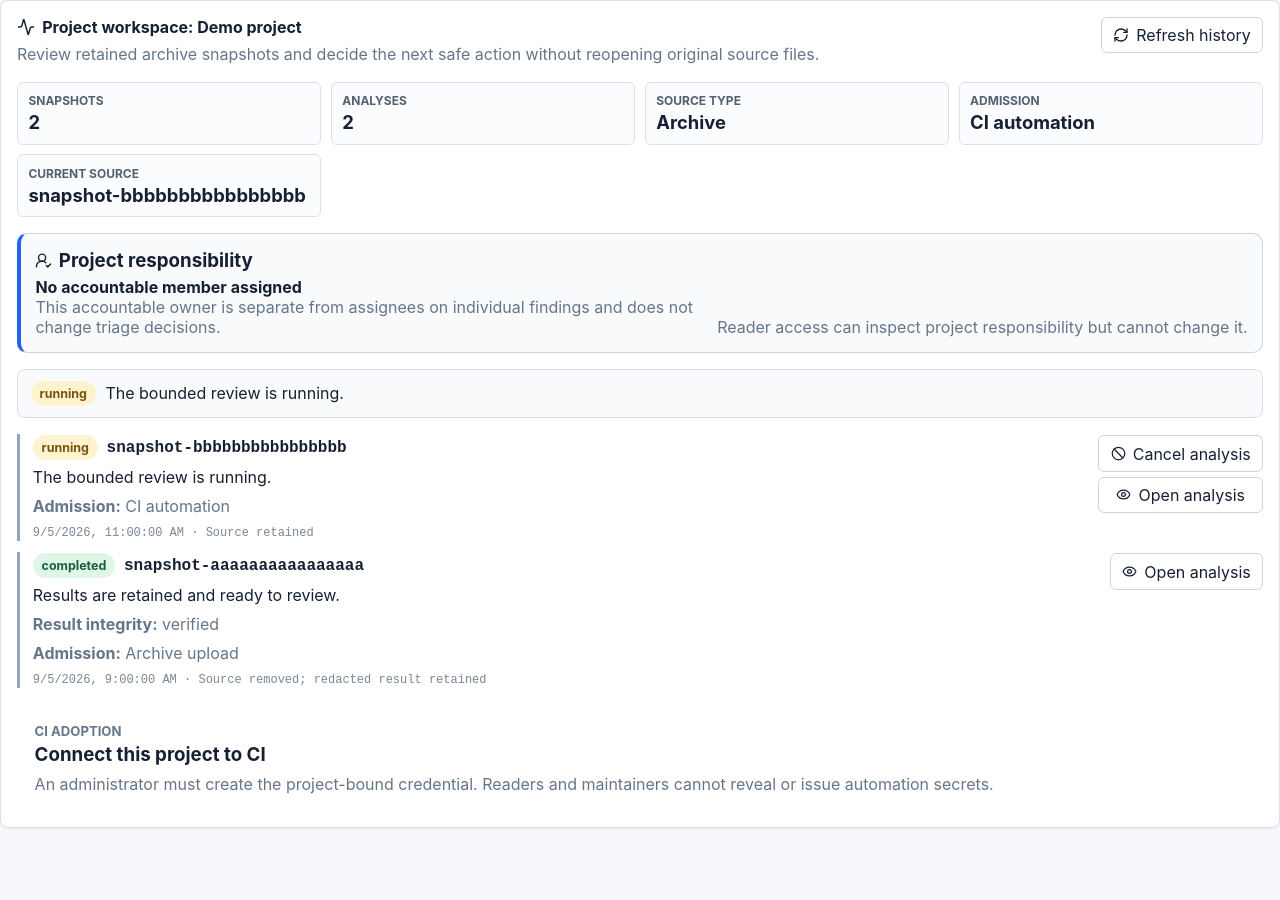
ProjectWorkspacePanel › cancels an active owned analysis and refreshes the terminal state
Click the button "Cancel analysis": (1181, 454) [1098,436,1263,472]
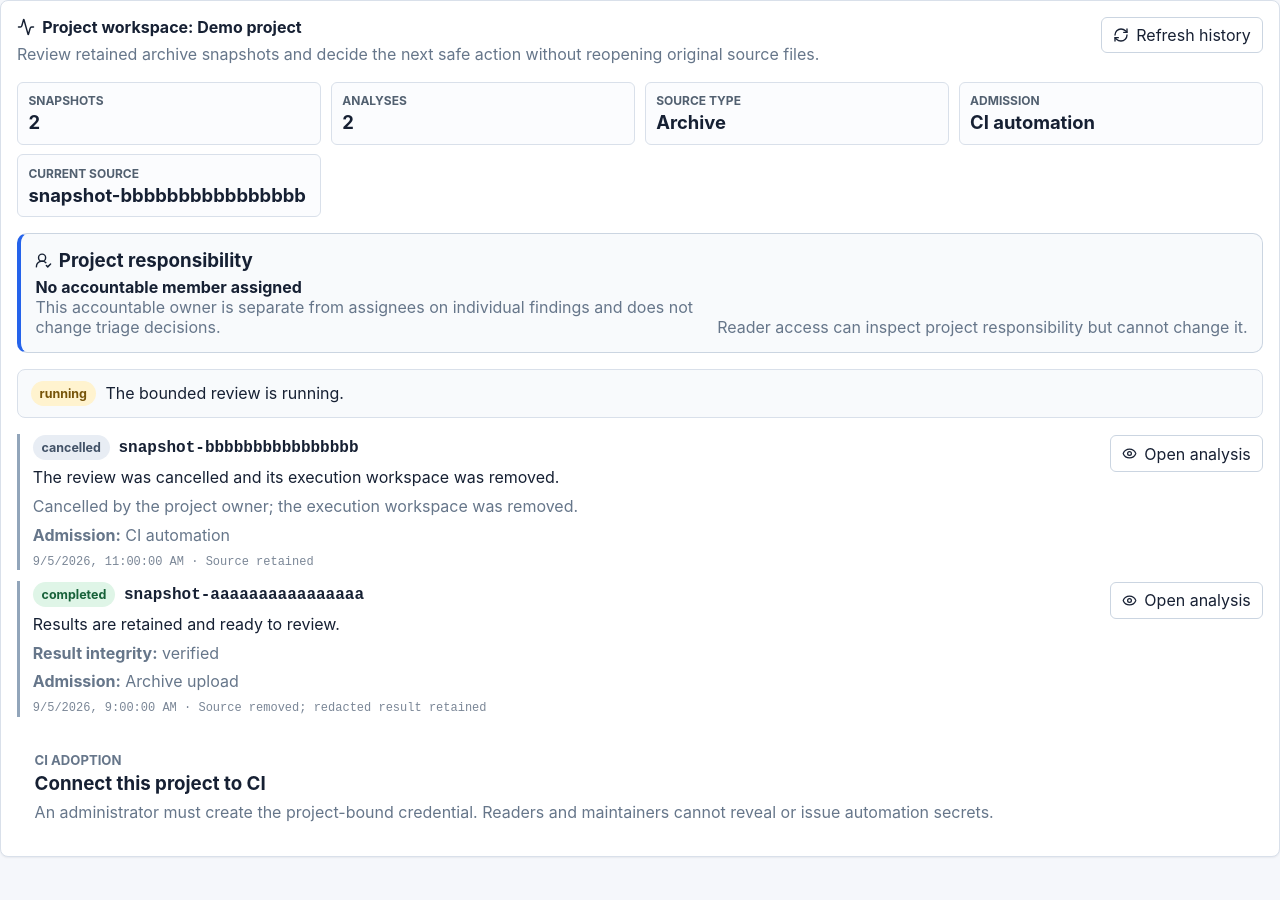
Check: the text "cancelled" is shown, box [33,436,110,460]
Check: the button "Cancel analysis" is gone
